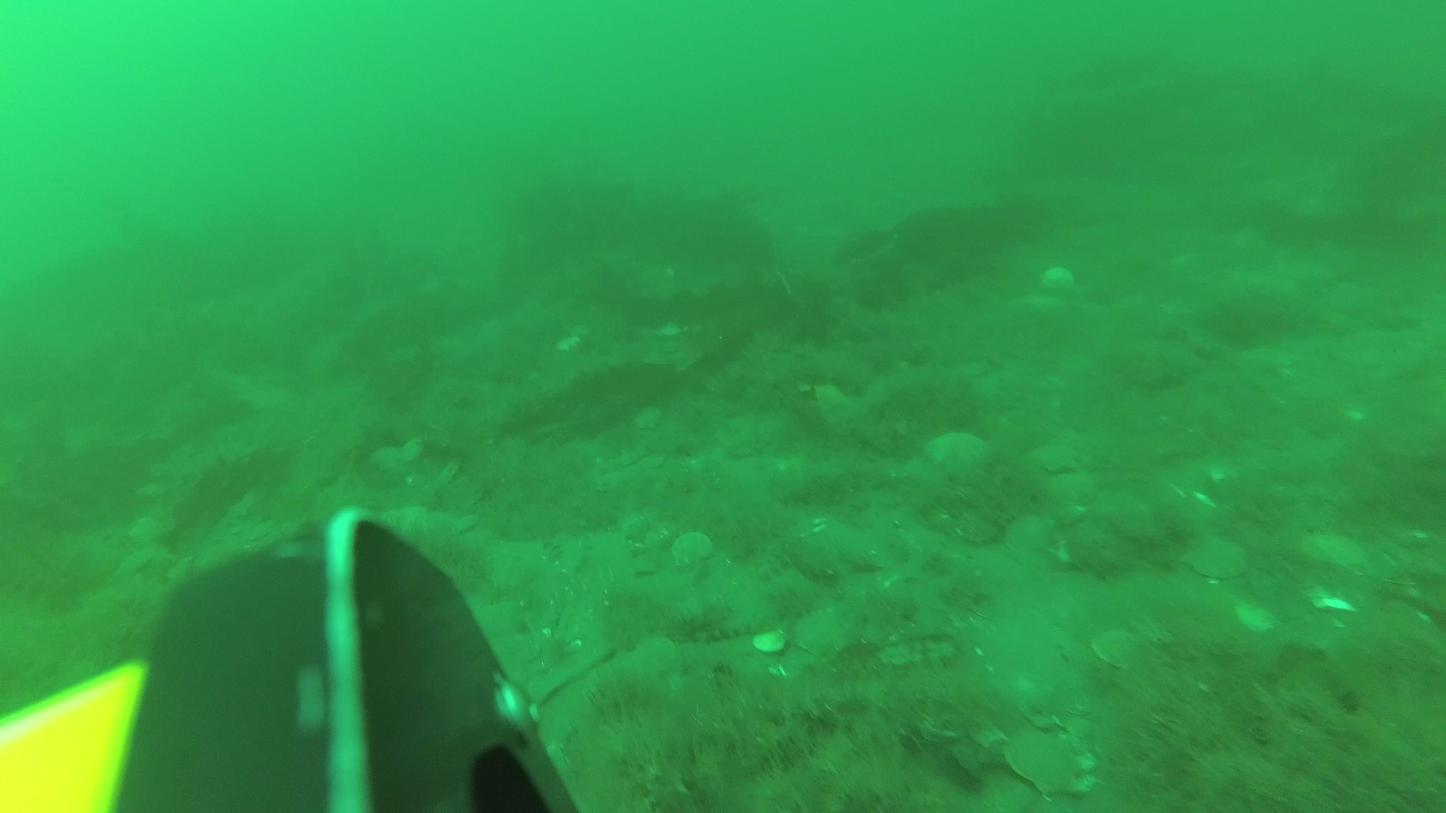holothurian: (377, 499, 449, 554), (919, 426, 990, 475)
scallop: (1001, 731, 1085, 797), (1293, 528, 1367, 575), (1089, 626, 1155, 673), (792, 603, 849, 657), (1183, 537, 1253, 580), (1002, 513, 1057, 558), (629, 634, 679, 680), (669, 527, 715, 572), (1027, 439, 1081, 477), (111, 547, 157, 581), (1040, 261, 1077, 296), (752, 627, 789, 656), (634, 406, 664, 431)
